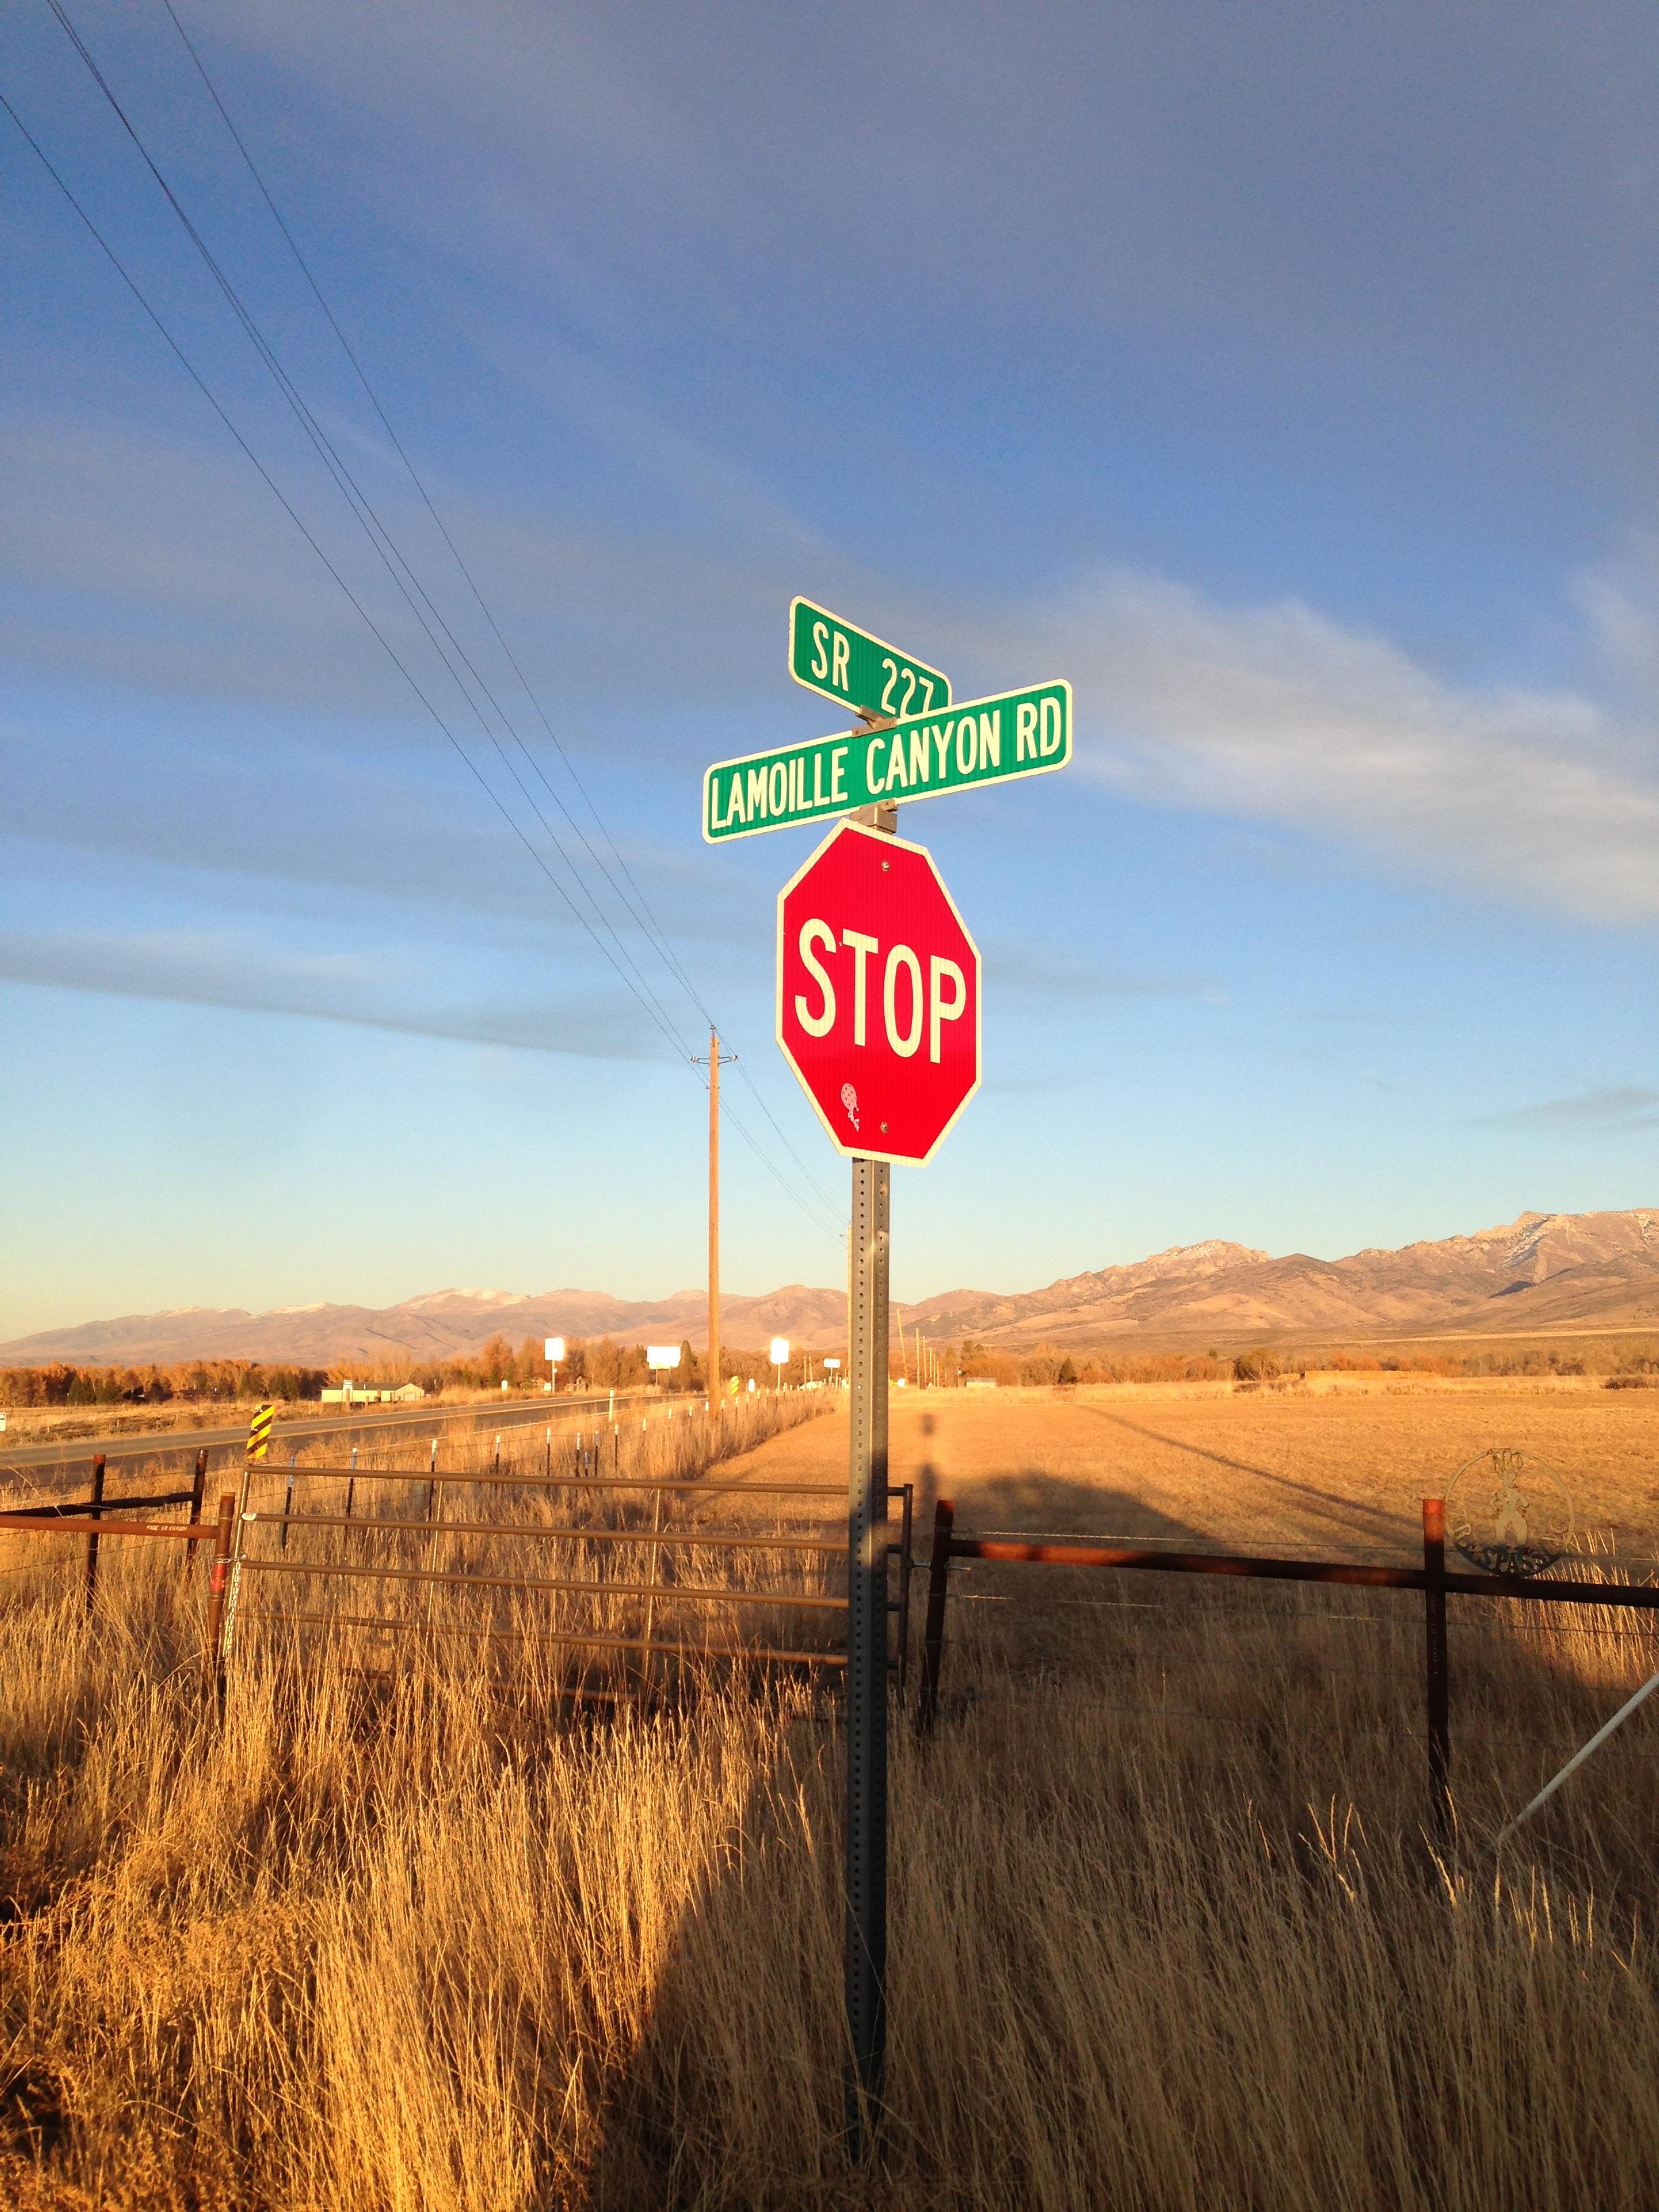Pole: (836, 1166, 893, 2161)
Sign: (767, 831, 983, 1164)
